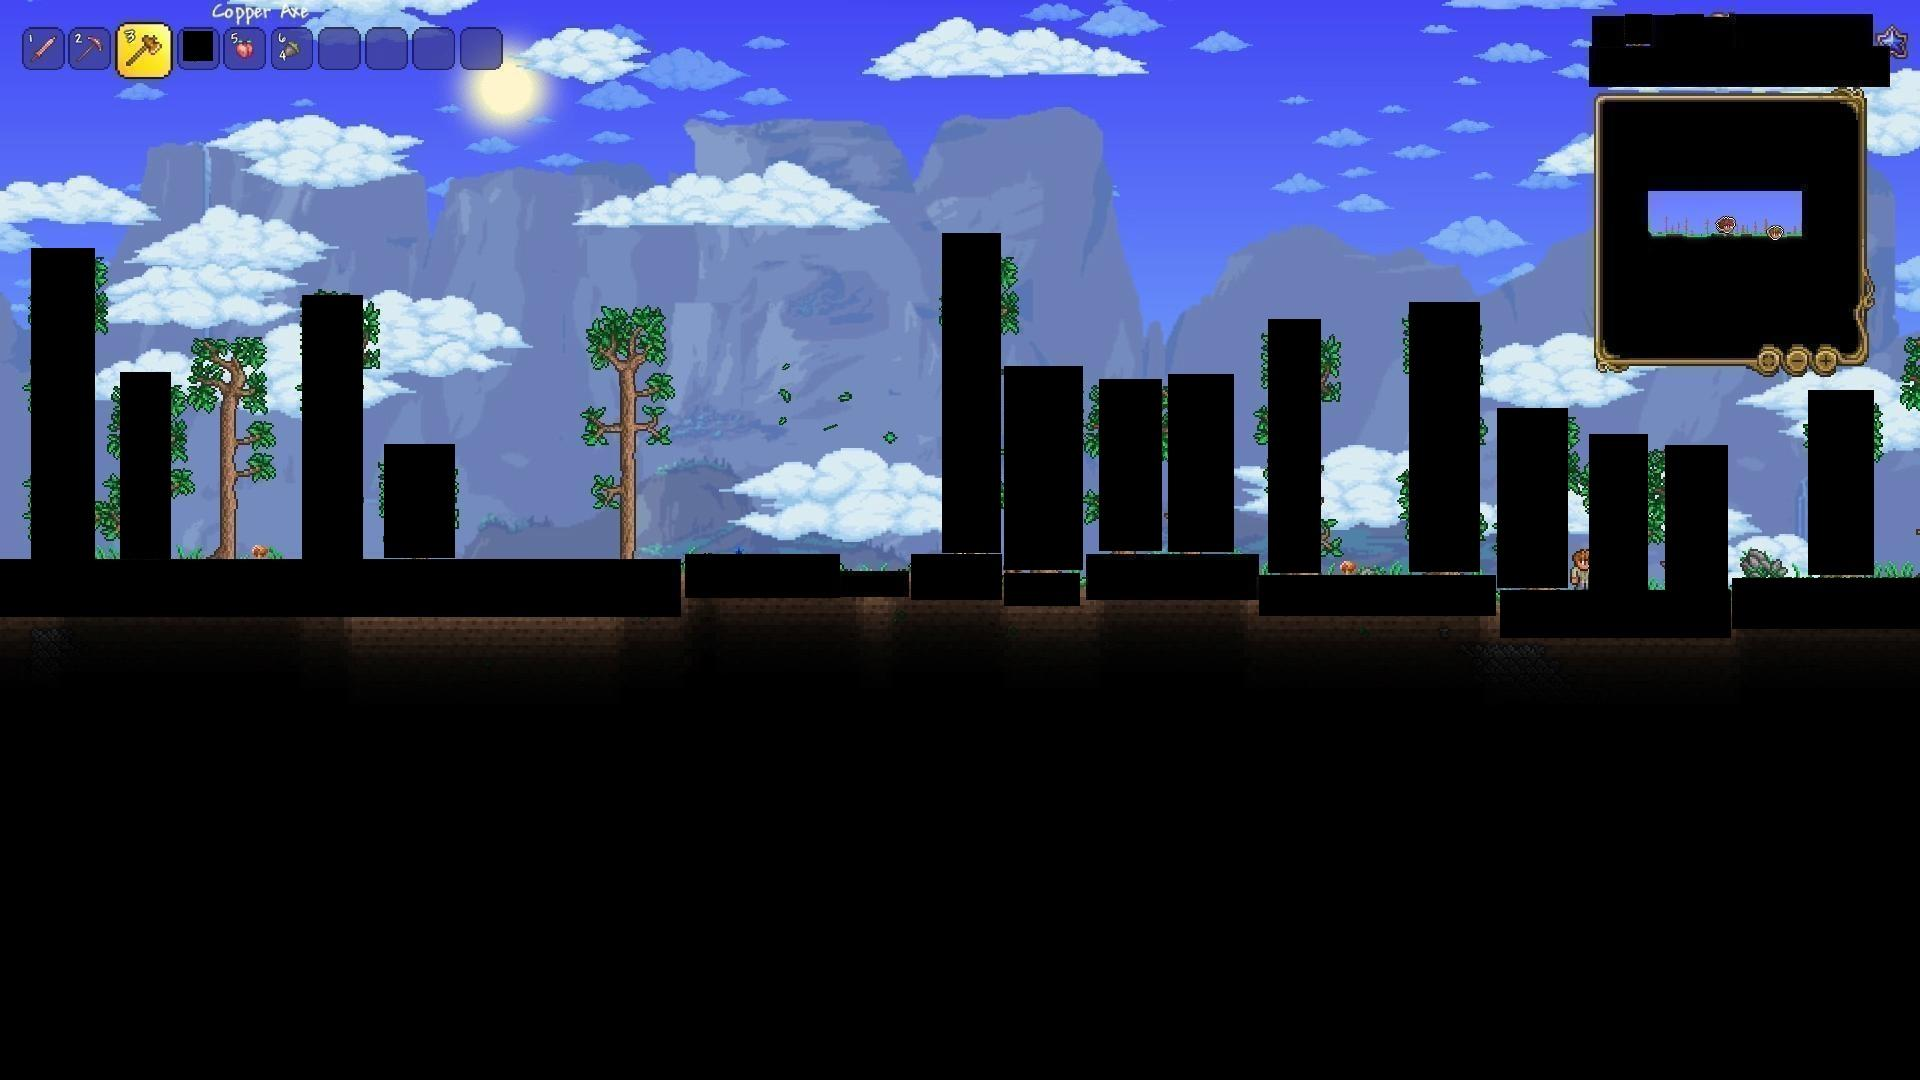tree: (582, 302, 655, 556), (196, 344, 255, 559)
